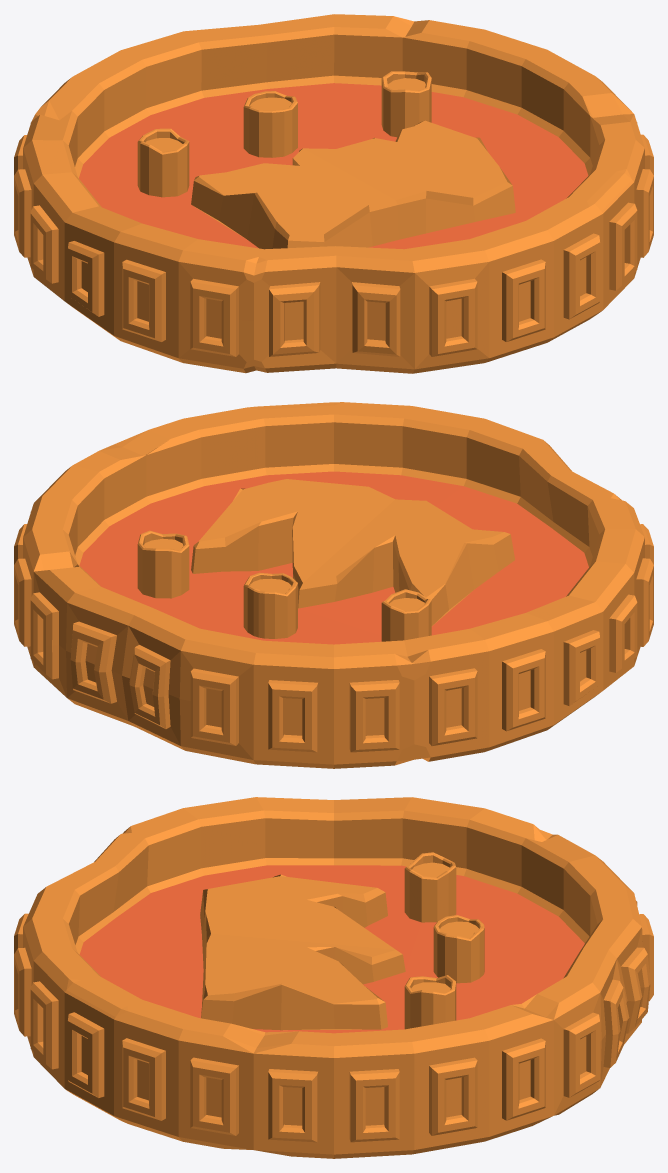
Rendered from Coin.glb.
The picture shows the model from 3 angles, top to bottom: view 1: azimuth 30°, elevation 25°; view 2: azimuth 150°, elevation 25°; view 3: azimuth 270°, elevation 25°; orthographic projection.
Visible parts, largest first — view 1: Coin; view 2: Coin; view 3: Coin.
Part boxes in pixels (left/top/right/bottom): Coin: left=14, top=14, right=653, bottom=373; Coin: left=14, top=402, right=653, bottom=768; Coin: left=14, top=797, right=653, bottom=1158.
Size of the model in its own units: 2.06 by 0.4 by 2.06.
1 material, 1 textured.
